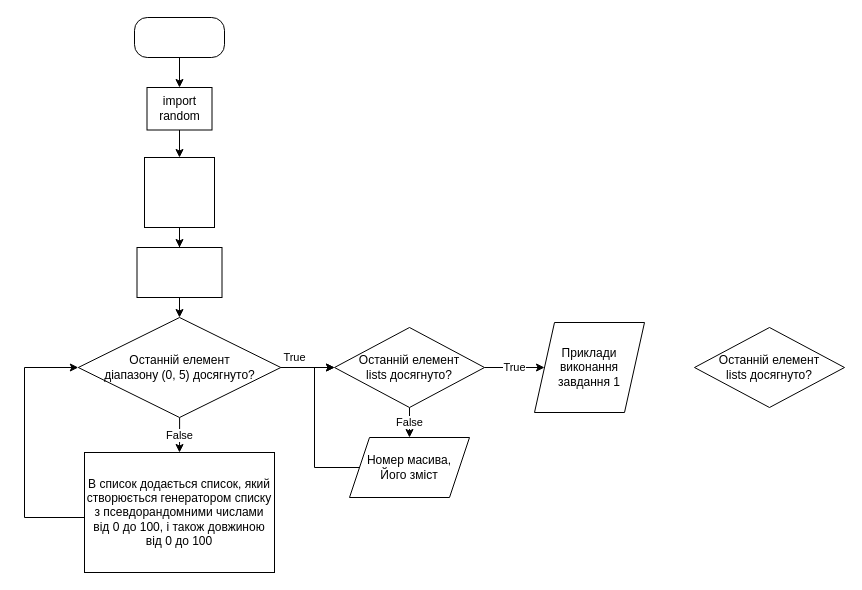
Image size: 862x590. Some labels were removed from this diagram. Each missing label, with the centre of its shape:
"Початок" belongs at (x=179, y=37).
"Створюю пустий список list = []" belongs at (x=179, y=272).
"Створюю функції task_1, task2" belongs at (x=179, y=192).
